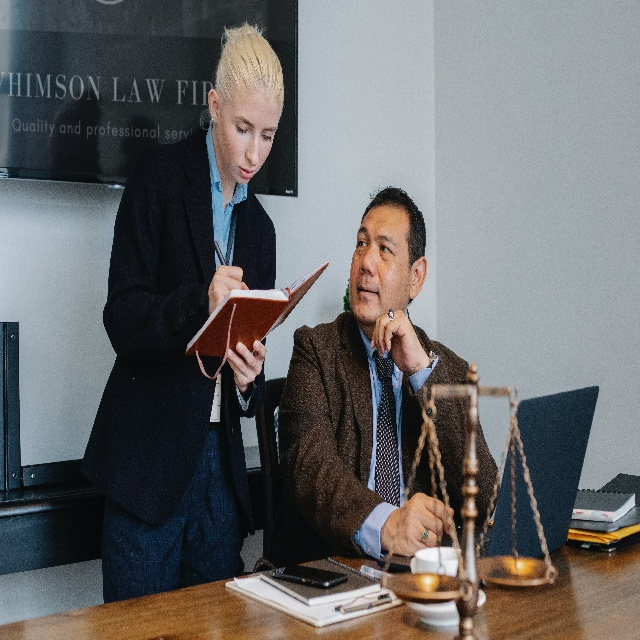Sin_guantes: (390, 489, 455, 559), (368, 308, 423, 374), (224, 333, 268, 395), (208, 263, 250, 315)
